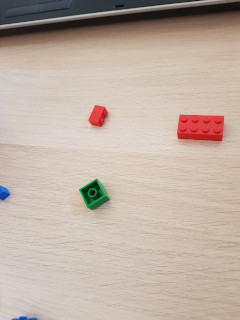1x2 red: (89, 105, 109, 127)
2x2 green: (79, 178, 111, 210)
2x4 red: (176, 113, 224, 142)
